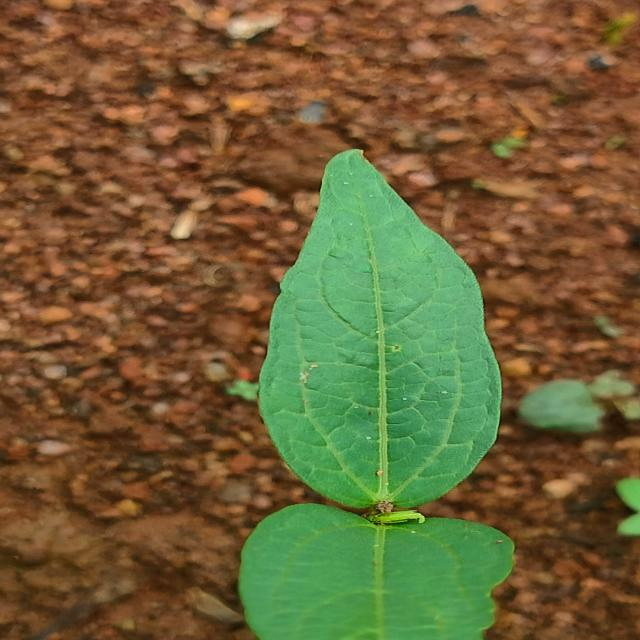Black gram_healthy: (253, 147, 499, 518), (240, 504, 512, 640)
